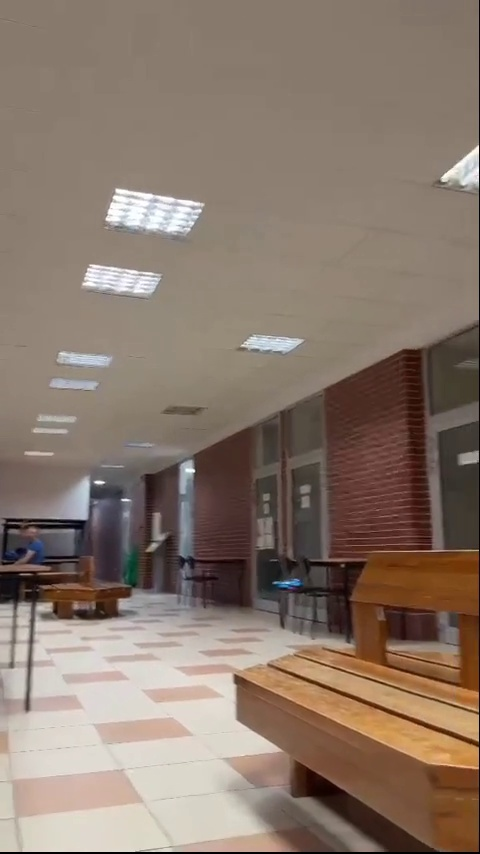drone: (271, 577, 306, 594)
no vest: (7, 519, 49, 571)
